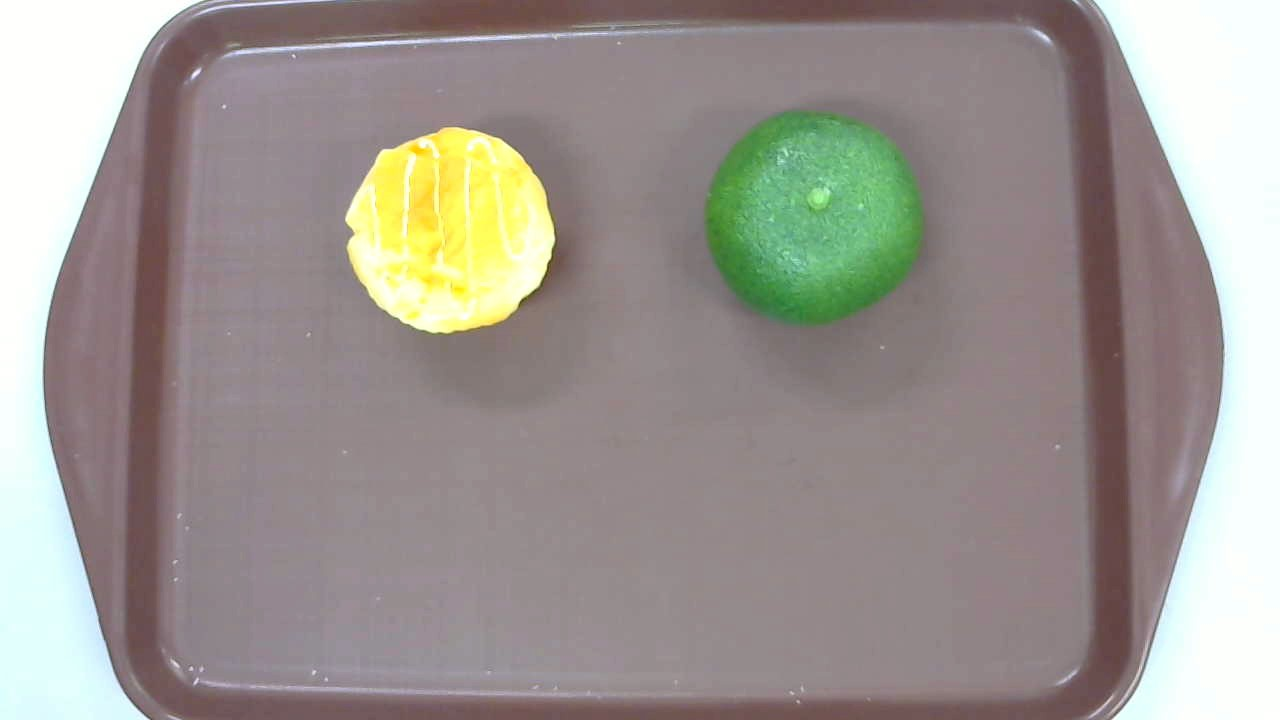cupcake: (345, 125, 556, 337)
green orange: (705, 110, 923, 325)
